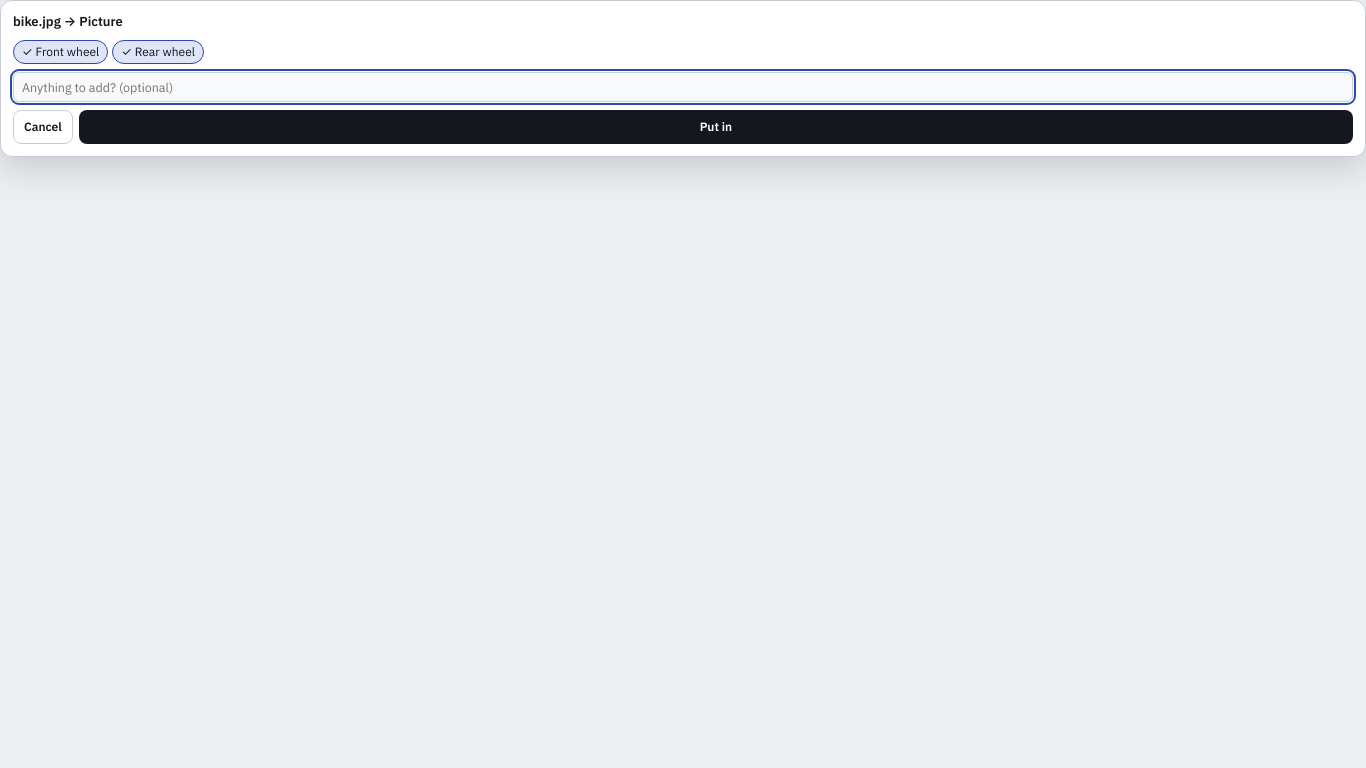
Test: PutCard › a rejected submit shows its message and the card stays
Click the button "Put in".
click(716, 127)  # box [79, 110, 1353, 144]
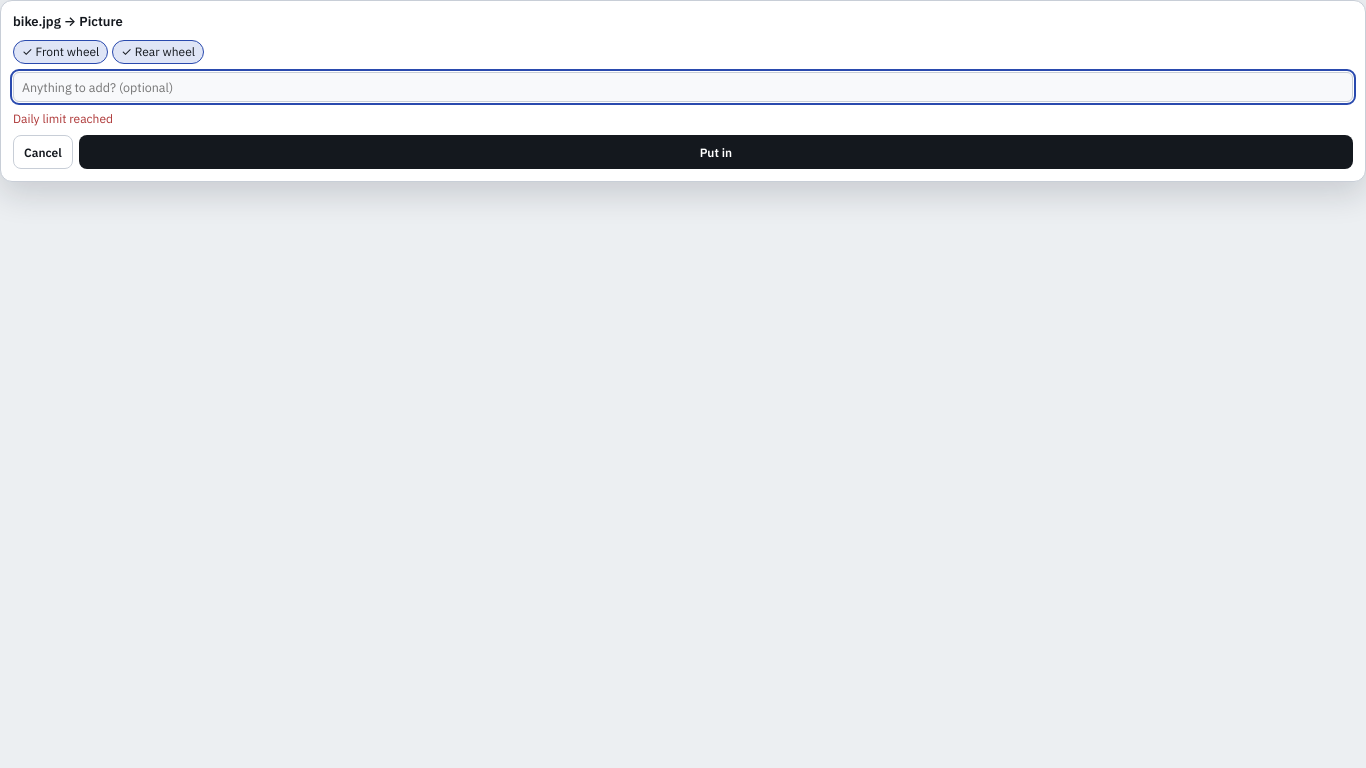
Expected: the button "Put in" is enabled, [79, 135, 1353, 169]
Now the message reads "Daily limit reached", box [13, 111, 113, 126]
